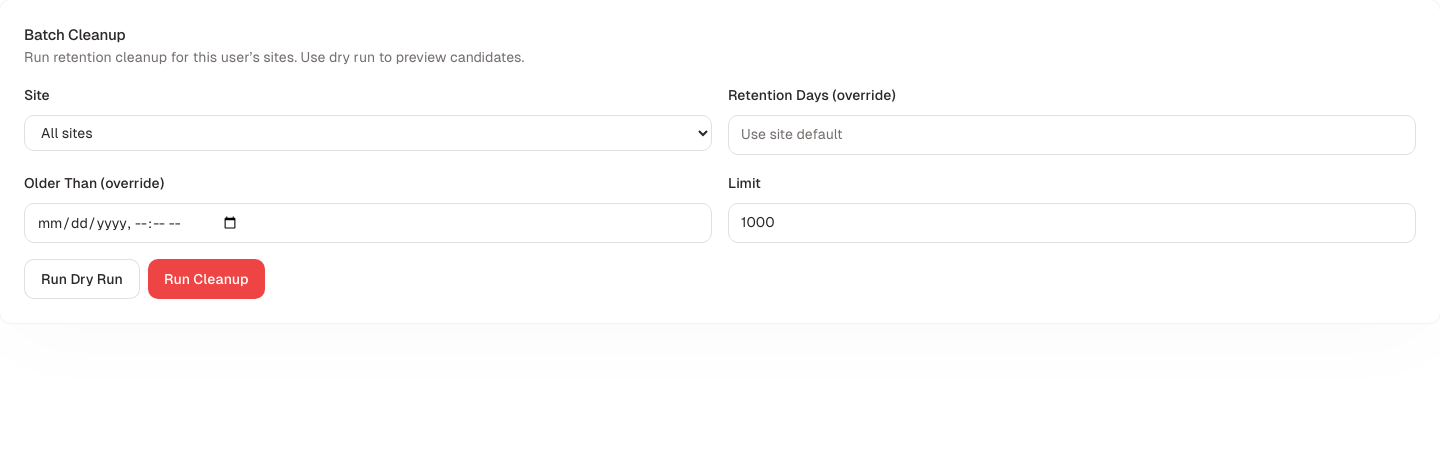
Test case: BatchCleanupPanel › runs dry run cleanup with provided filters
The image size is (1440, 469).
Select "site-2" in the dropdown labelled "Site": (368,132) [24, 114, 712, 150]
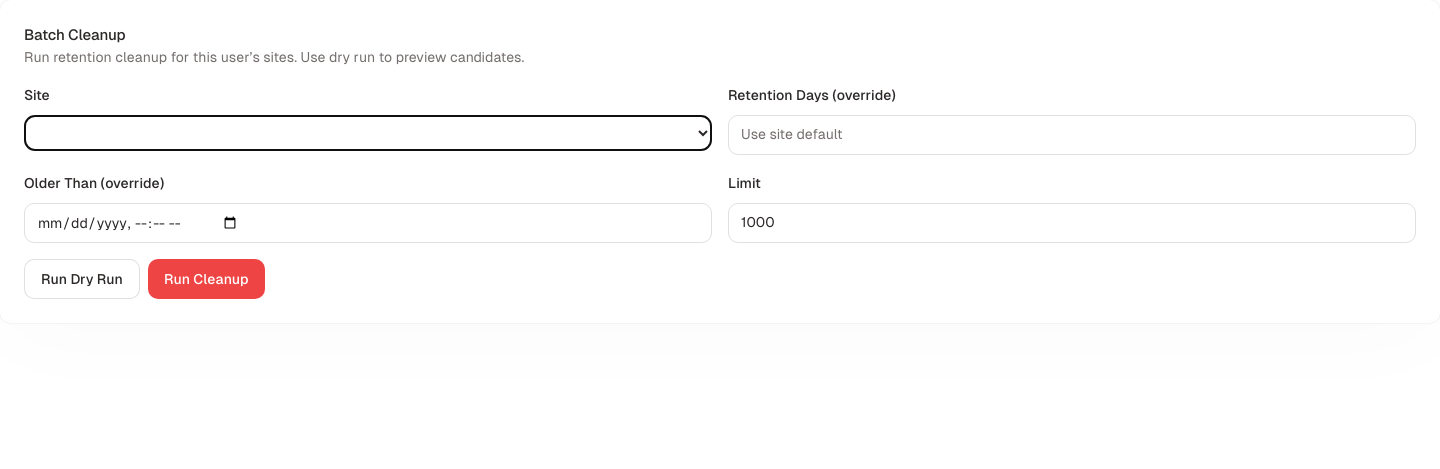
In the number field labelled "Retention Days (override)": (1072,134) [728, 114, 1416, 154], type "30"
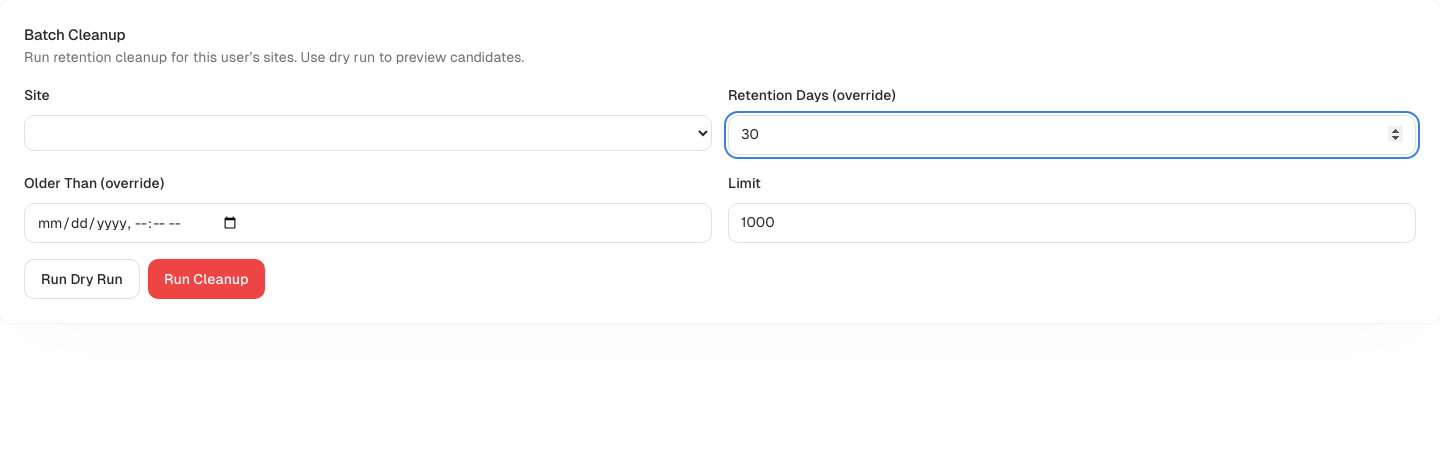
In the field labelled "Older Than (override)": (368,222) [24, 202, 712, 242], type "2025-01-15T10:30"
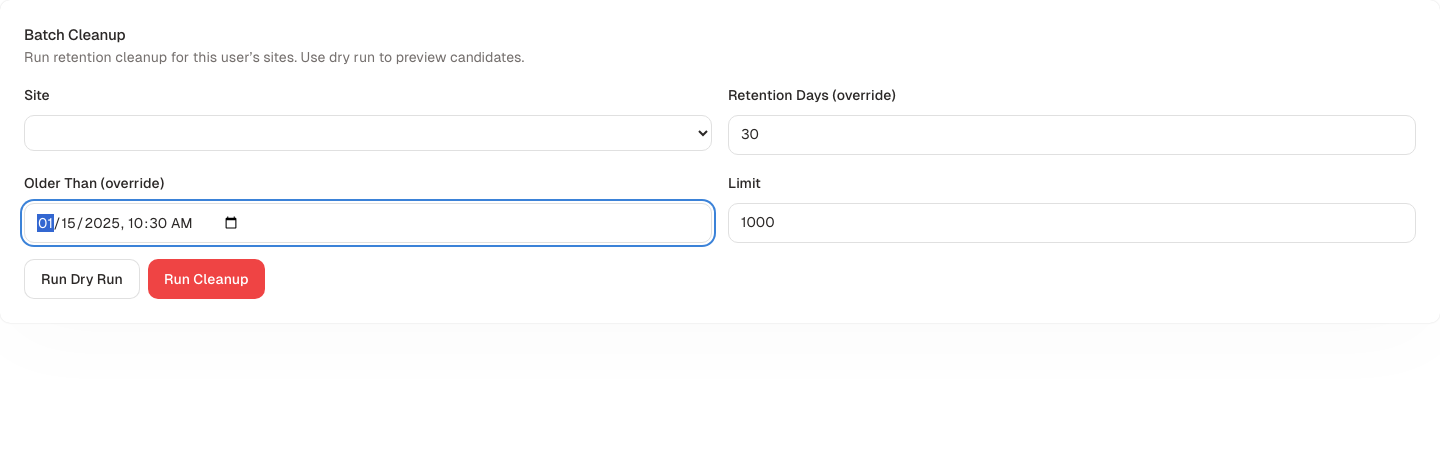
Replace the text in the number field labelled "Limit" with "500": (1072,222) [728, 202, 1416, 242]
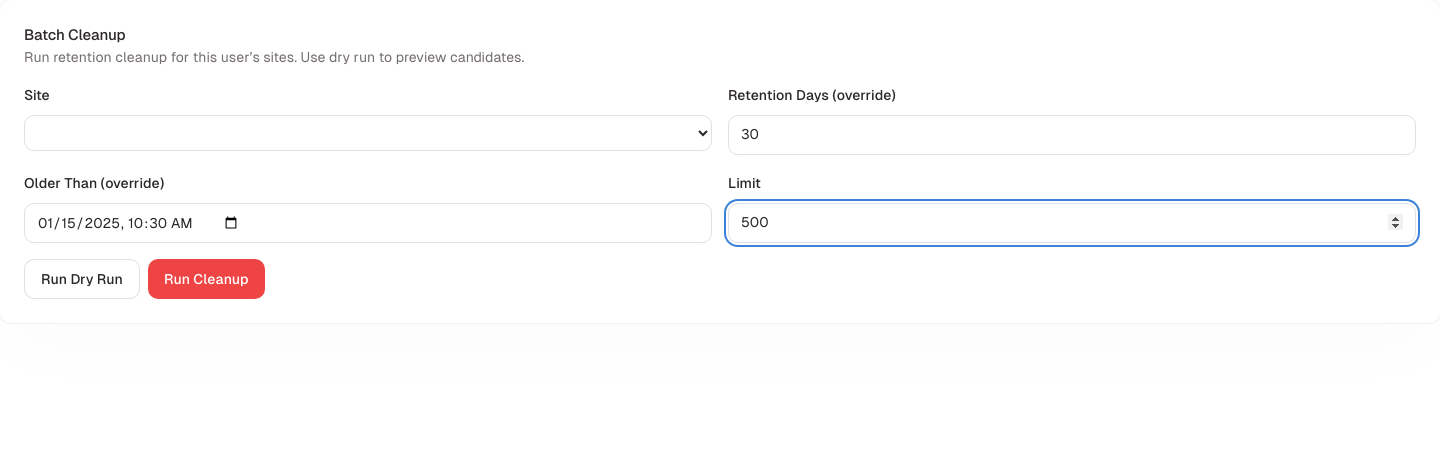
Click the button "Run Dry Run": (82,278) [24, 258, 140, 298]
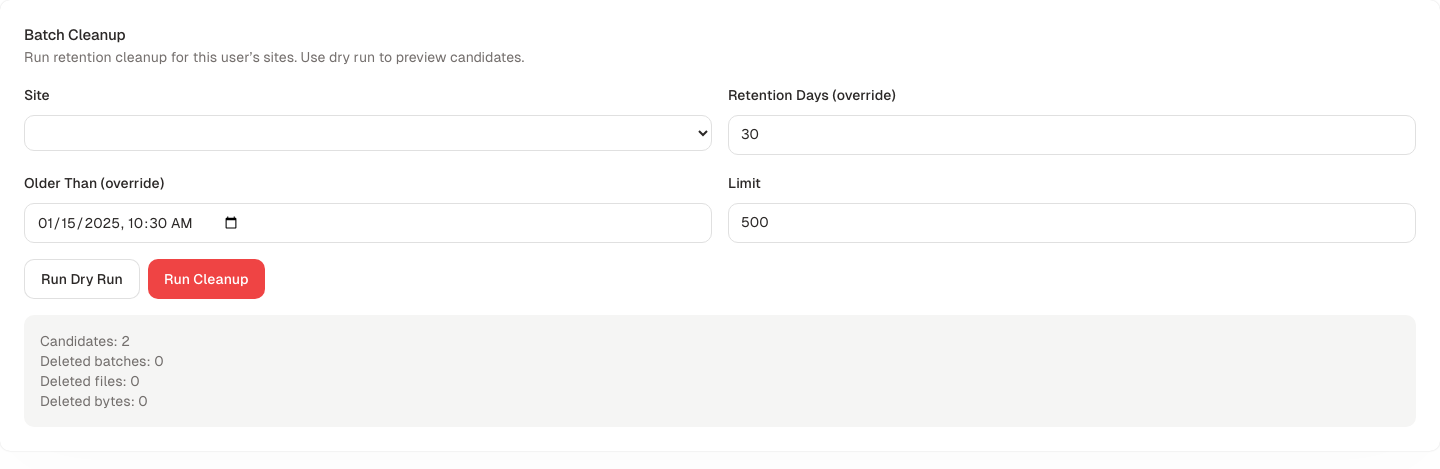
expect the text "Candidates: 2" is shown: met, box [40, 332, 130, 348]
